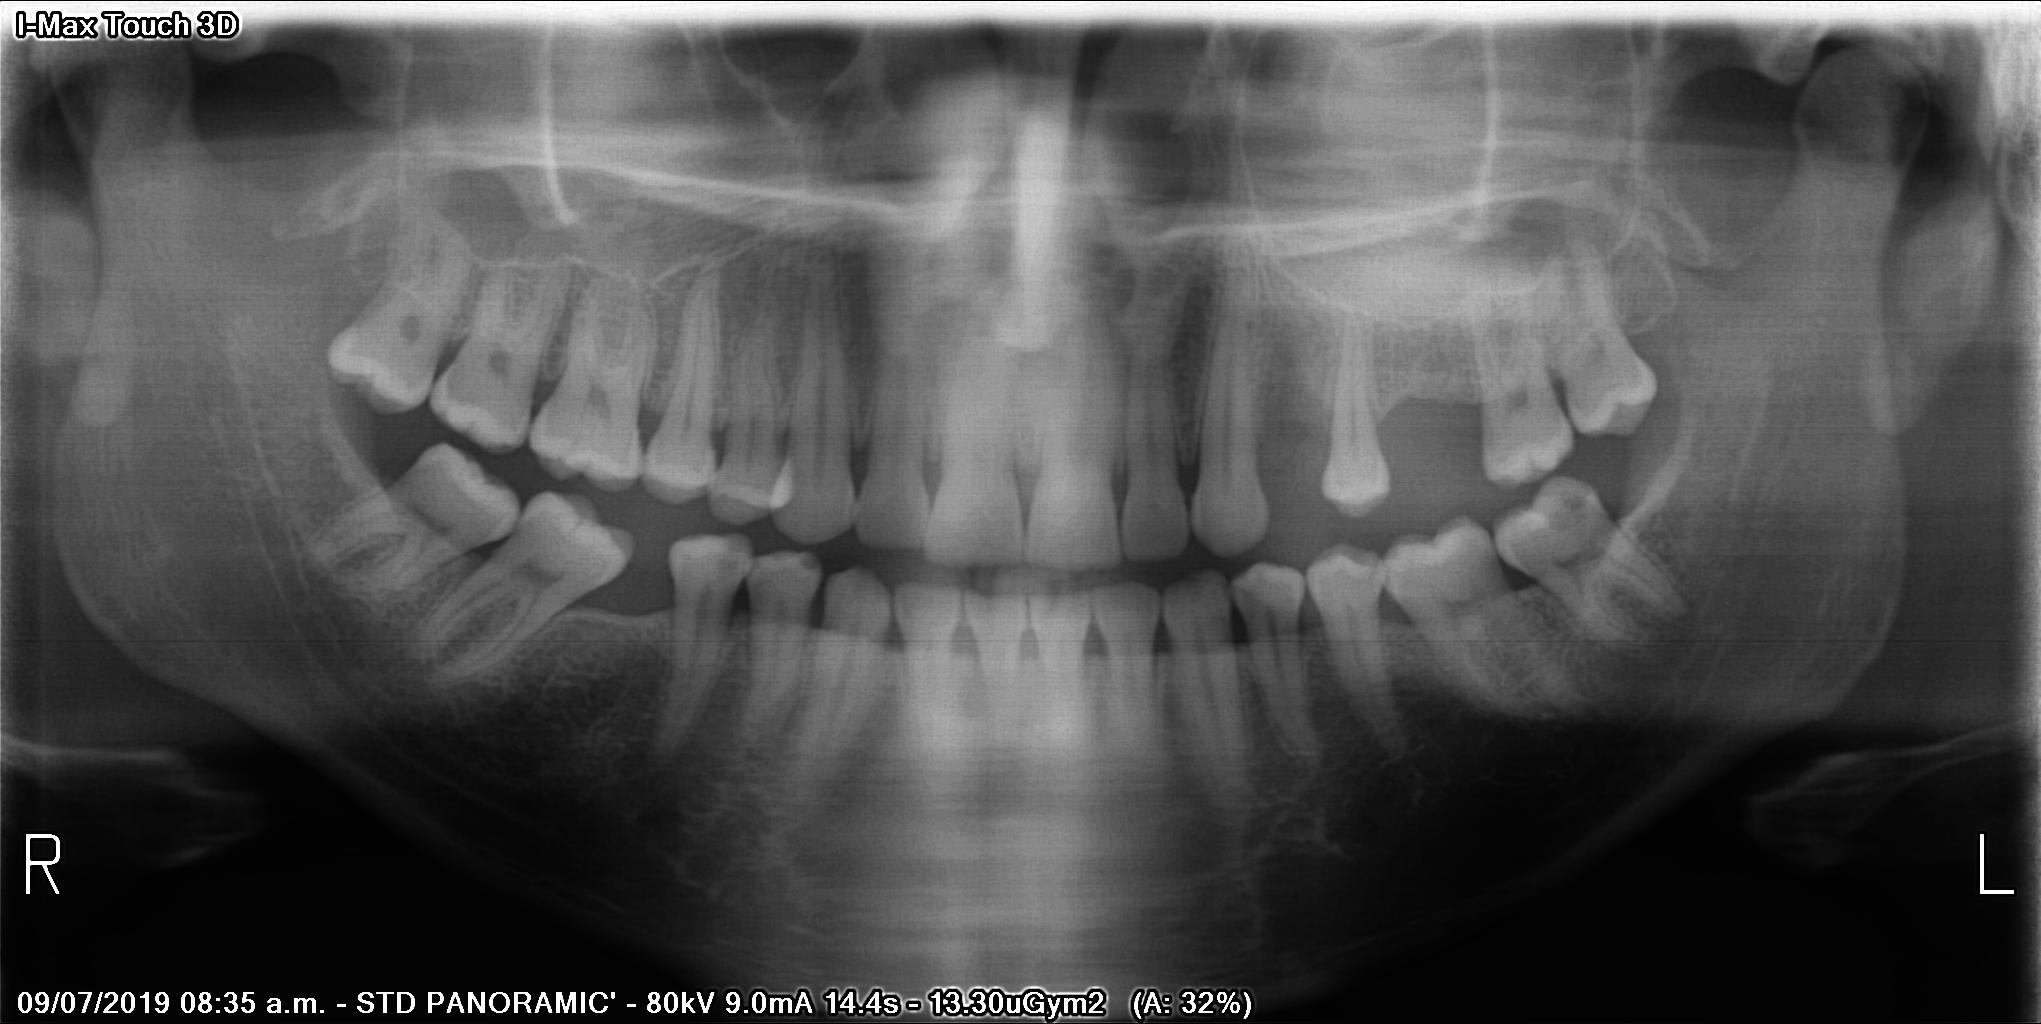Çürük Bölgesi: (1545, 475, 1604, 532), (705, 534, 757, 586), (790, 552, 842, 586)
